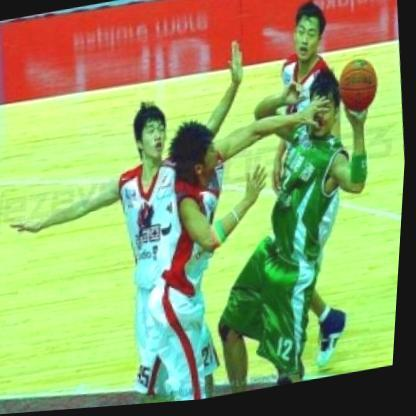basketball: (339, 61, 380, 112)
